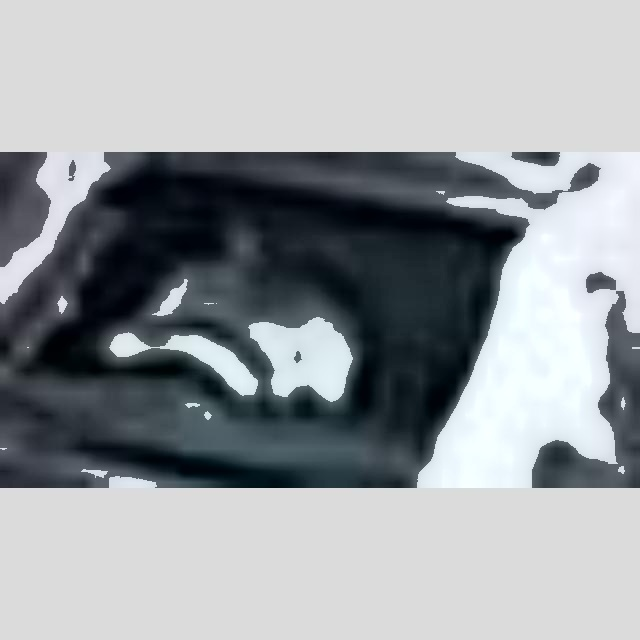tidak-pakai: (112, 208, 359, 433)
